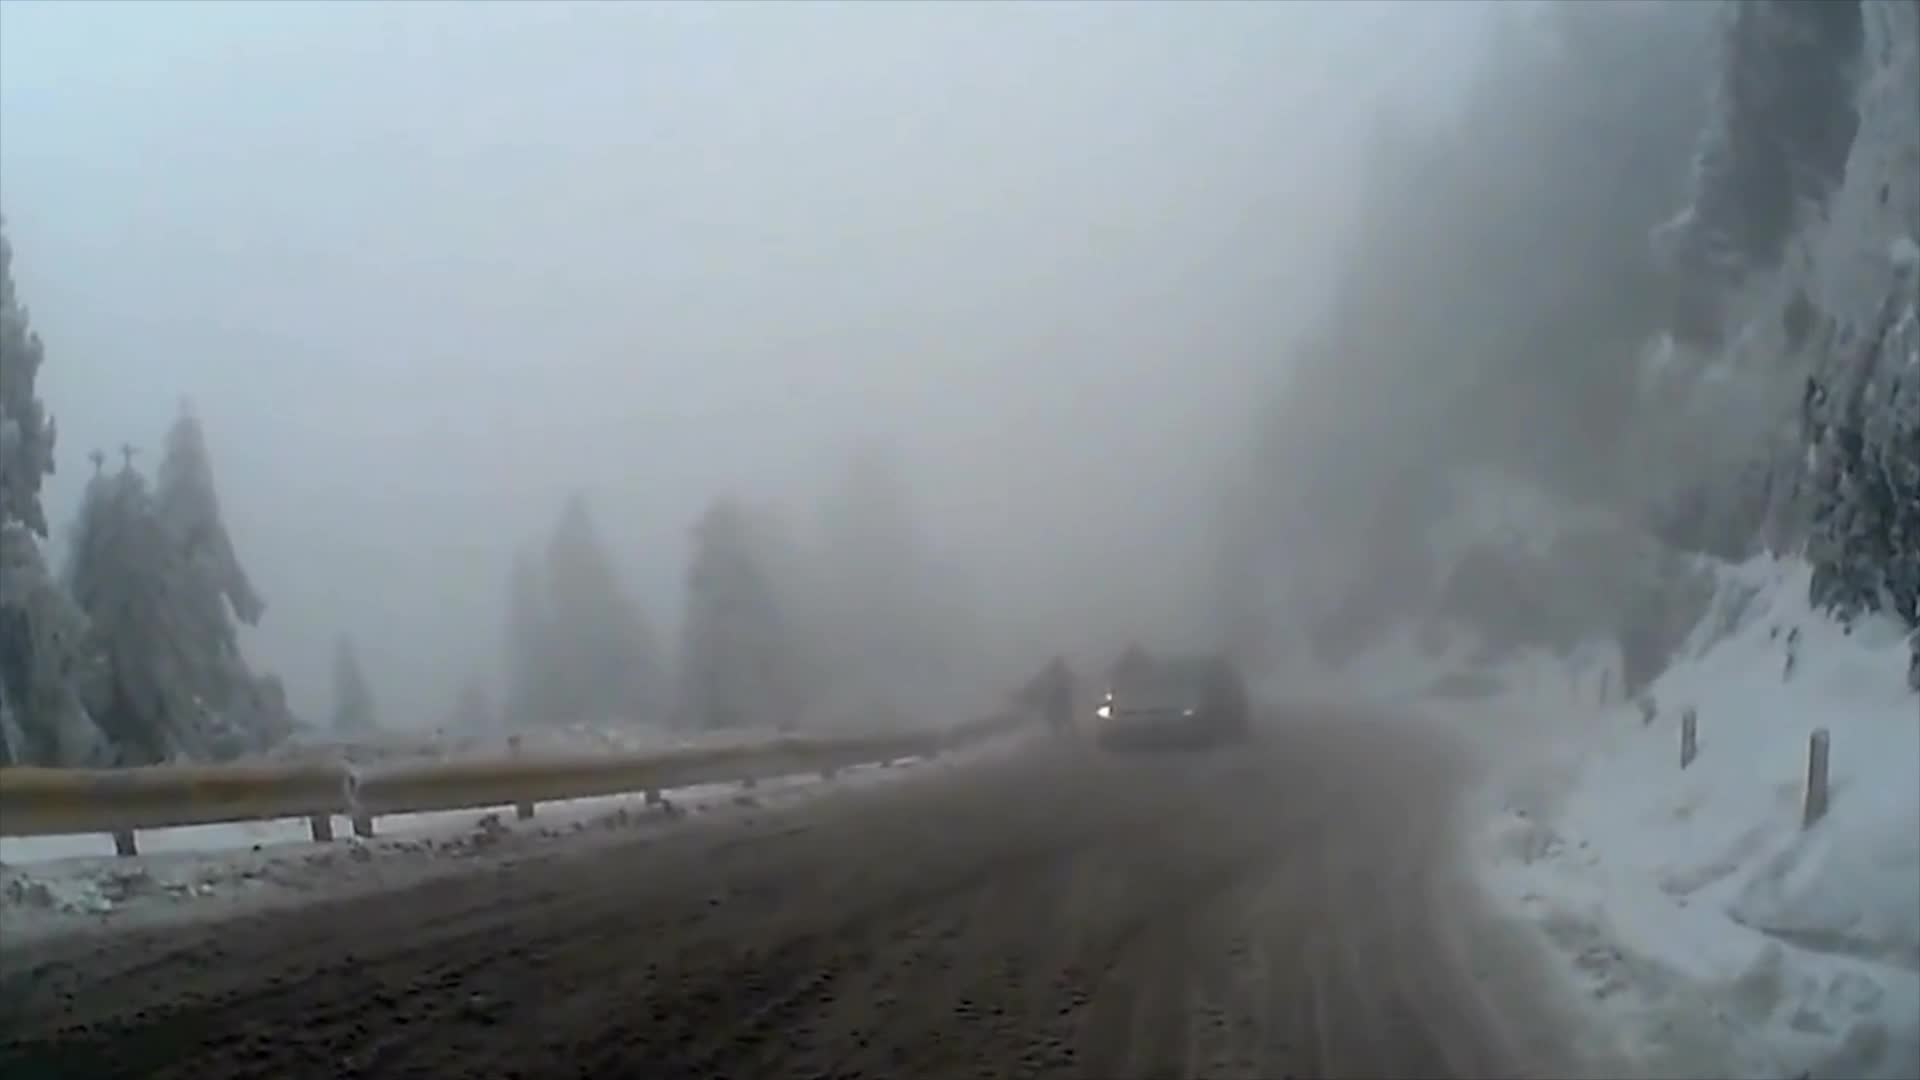vehicle: (1089, 653, 1250, 754)
